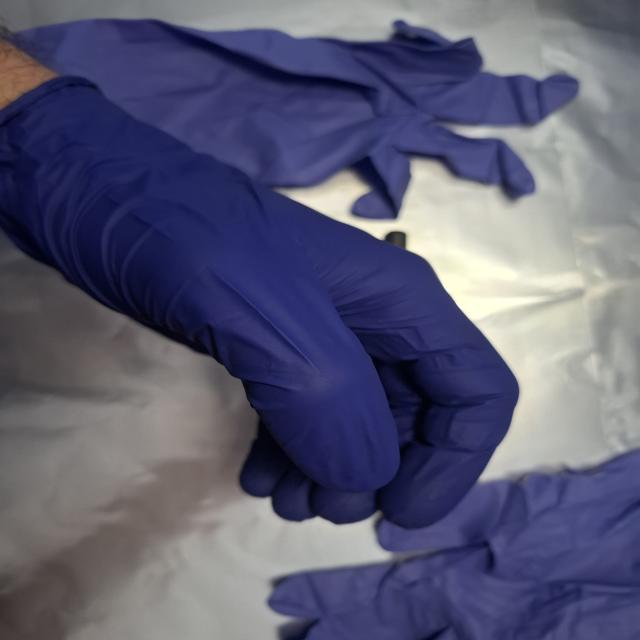glove_on: (0, 73, 528, 534)
